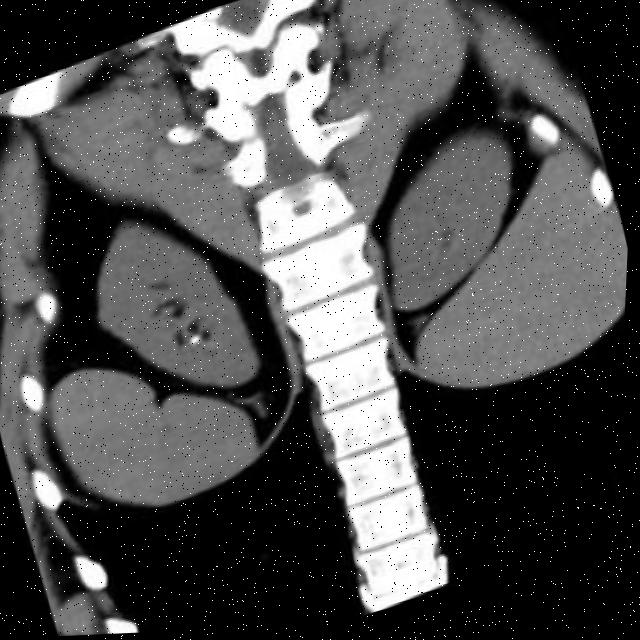Tas_Var: (188, 332, 211, 351)
